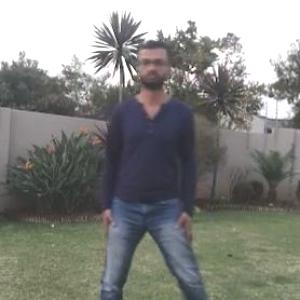follow: (93, 11, 208, 299)
